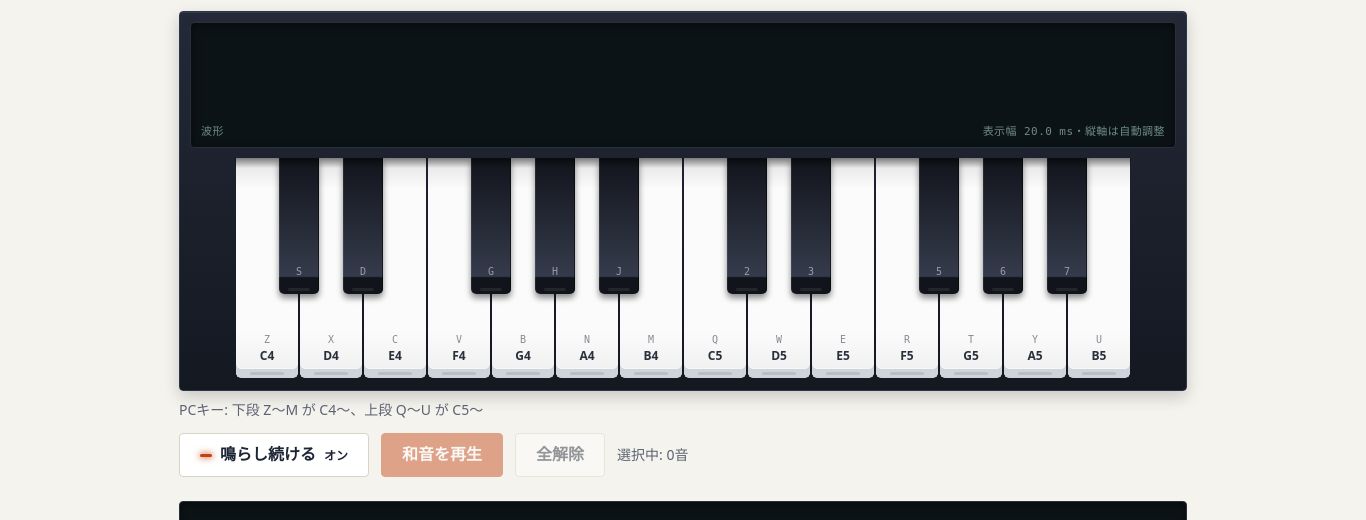
Test: App: 和音作成モード（初期モード） › 判定できない集合で、暫定表記の綴りと合わない音程には「相当」を付ける
The image size is (1366, 520).
Step 1. Click the button "Z C4" → (267, 268), box [235,158,299,378]
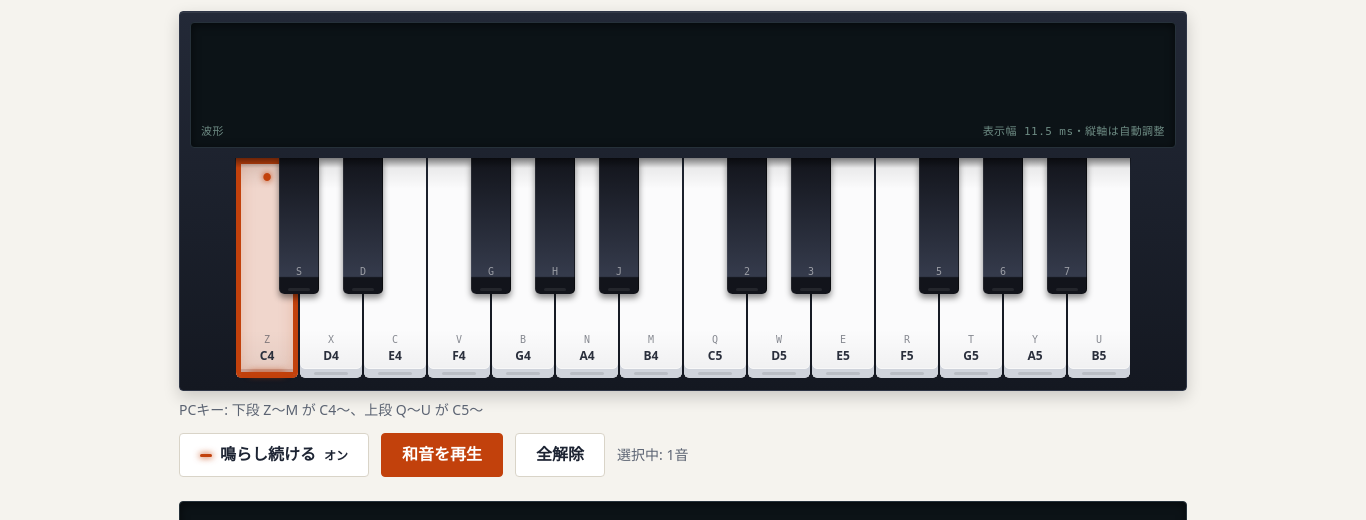
Step 2. Click the button "C E4" → (395, 268), box [363,158,427,378]
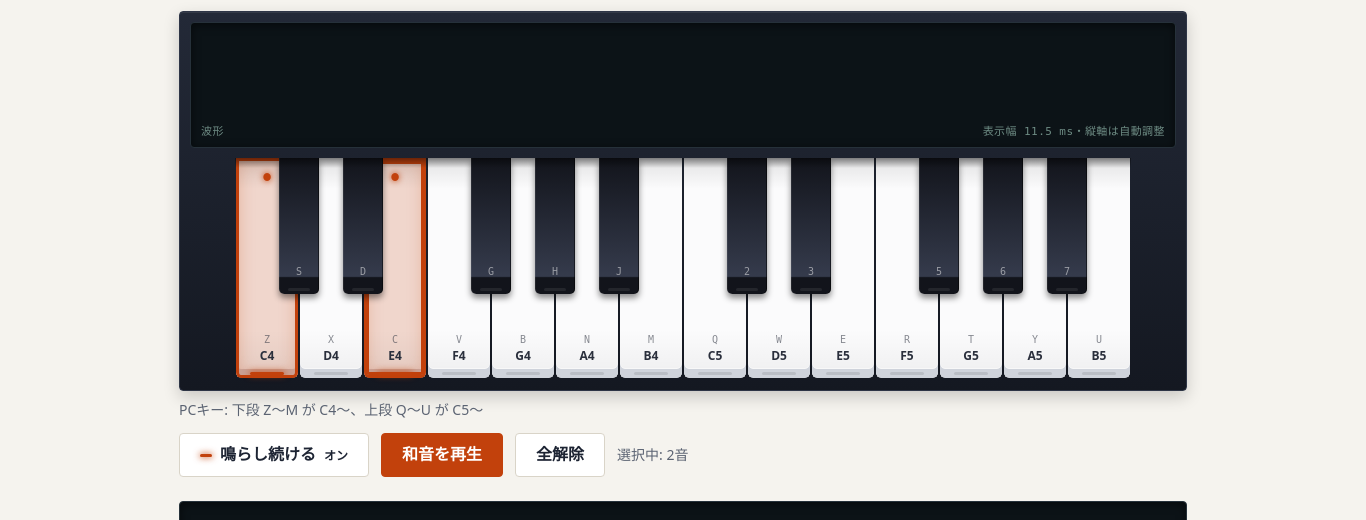
Step 3. Click the button named "G♯4 / A♭4" → (555, 226), box [535,158,575,294]
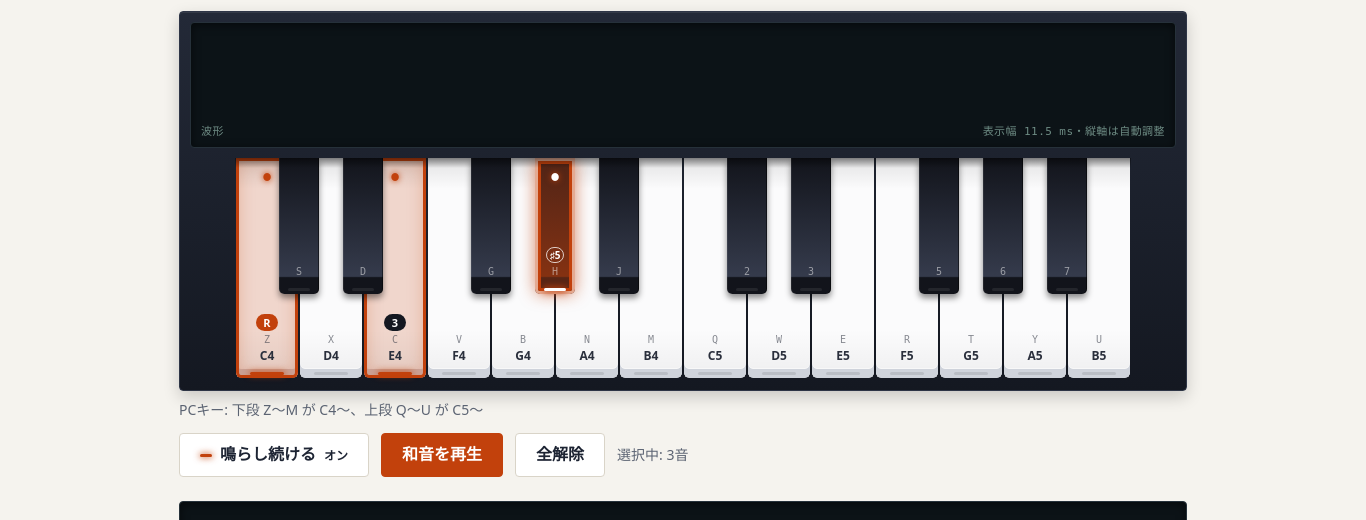
Step 4. Click the button "M B4" → (651, 268), box [619,158,683,378]
(page scrolled)
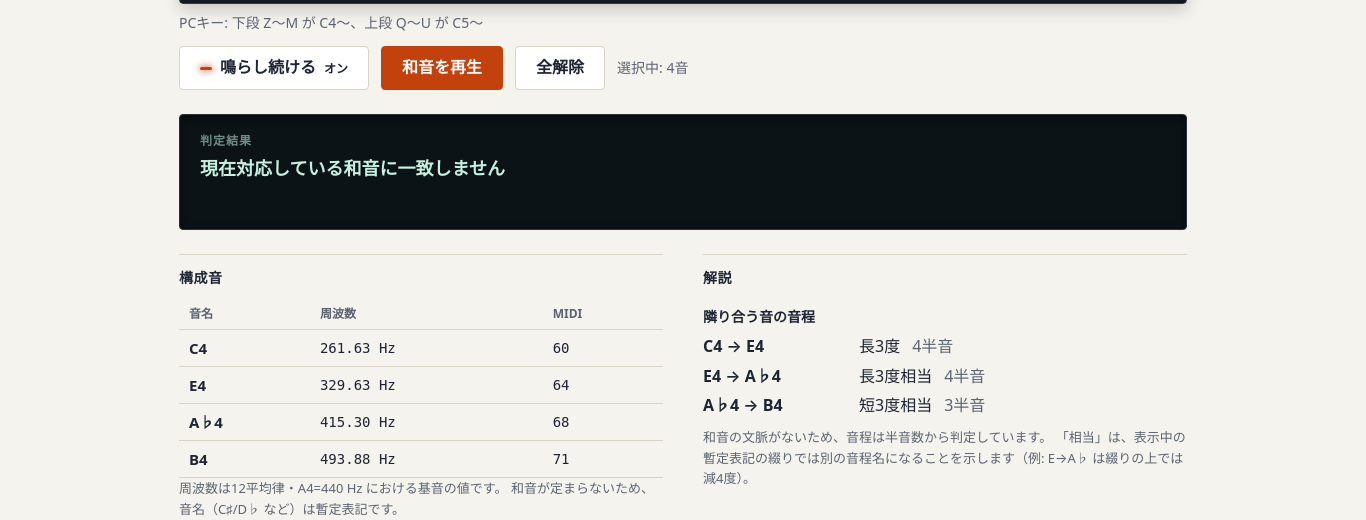
Check: the text "長3度" is shown, box [859,334,900,360]
Check: the text "長3度相当" is shown, box [859,364,932,389]
Check: the text "短3度相当" is shown, box [859,393,932,419]
